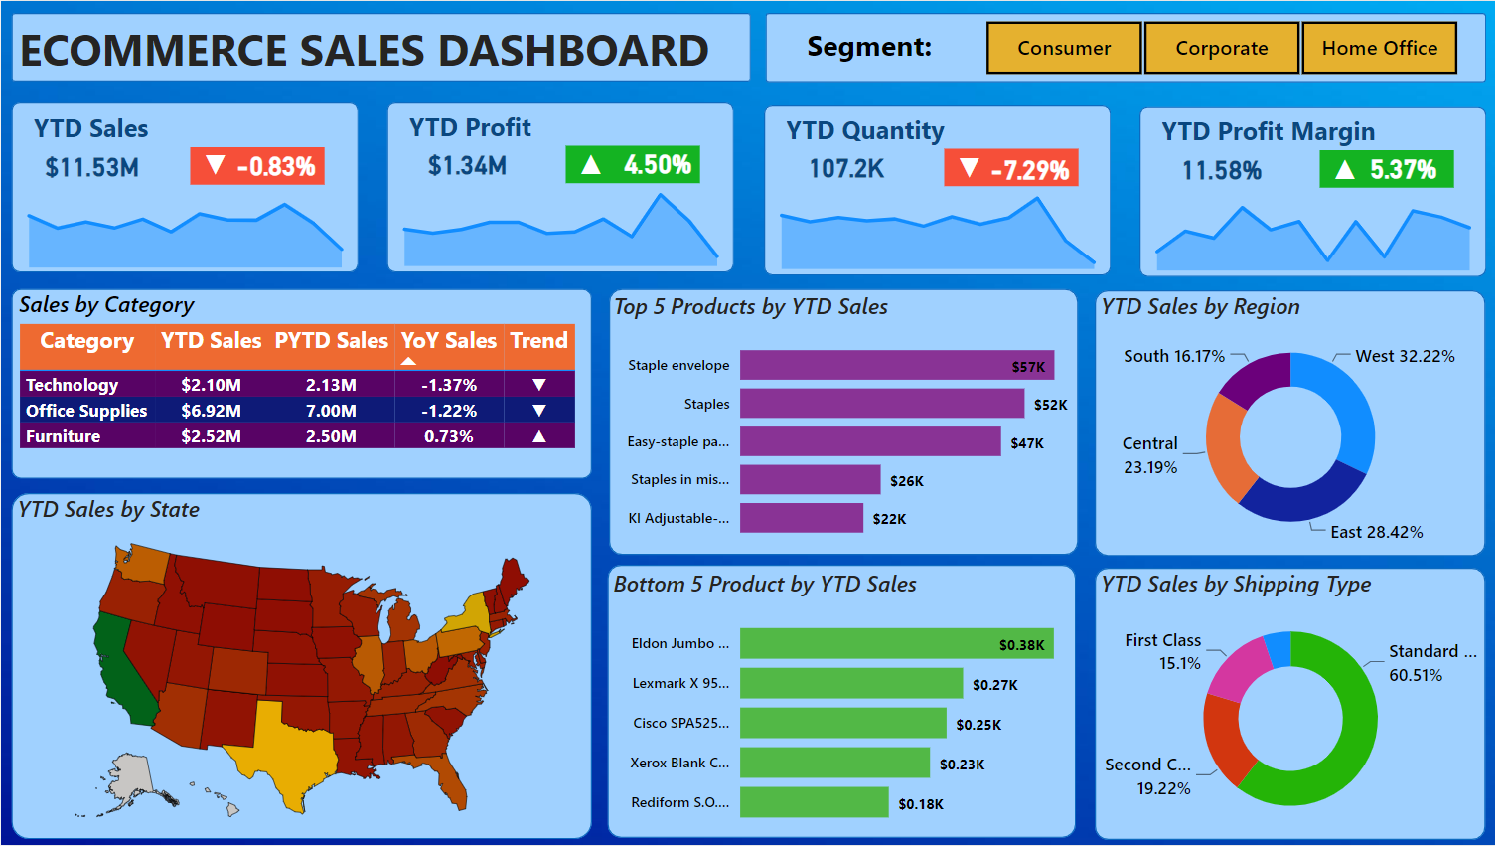

The dashboard page shown, as its layout file describes it:
{"tool":"powerbi","page":{"name":"Page 1","canvas":[1280,720],"ordinal":0},"visuals":[{"type":"shape","box":[8.6,10,631.4,58.6],"z":0},{"type":"textbox","box":[9.9,9.9,629.6,59.2],"z":1000},{"type":"shape","box":[9.2,87.1,296.3,145.1],"z":2000},{"type":"card","fields":{"Values":["ecommerce_data.YTD Sales"]},"box":[18.3,120.7,119.1,39.7],"z":3000},{"type":"shape","box":[162.2,124.4,114.4,31.7],"z":4000},{"type":"areaChart","fields":{"Category":["Calender.Month"],"Y":["Sum(ecommerce_data.sales_per_order)"]},"box":[9.2,149.7,296.3,82.5],"z":5000},{"type":"card","fields":{"Values":["ecommerce_data.YoY Sales"]},"box":[191.8,122.7,84.5,35.5],"z":6000},{"type":"card","fields":{"Values":["ecommerce_data.Salees Icon"]},"box":[162.2,123.9,42.8,32.2],"z":7000},{"type":"textbox","box":[22.8,87.2,134.4,41.1],"z":8000},{"type":"shape","box":[329.6,86.6,296.3,145.1],"z":9000},{"type":"shape","box":[482.7,124,114.4,31.7],"z":10000},{"type":"card","fields":{"Values":["ecommerce_data.YTD Profit"]},"box":[338.8,120.2,119.1,39.7],"z":11000},{"type":"areaChart","fields":{"Category":["Calender.Month"],"Y":["Sum(ecommerce_data.profit_per_order)"]},"box":[329.6,149.2,296.3,82.5],"z":12000},{"type":"card","fields":{"Values":["ecommerce_data.YoY Profit"]},"box":[518.2,120.9,85.5,35.5],"z":13000},{"type":"card","fields":{"Values":["ecommerce_data.Profit Icon"]},"box":[482.7,123.4,42.8,32.2],"z":14000},{"type":"textbox","box":[343.3,86.7,134.4,41.1],"z":15000},{"type":"shape","box":[652,89,296.3,145.1],"z":16000},{"type":"shape","box":[805.1,126.3,114.4,31.7],"z":17000},{"type":"card","fields":{"Values":["ecommerce_data.YTD Quantity"]},"box":[661.2,122.6,119.1,39.7],"z":18000},{"type":"areaChart","fields":{"Category":["Calender.Month"],"Y":["Sum(ecommerce_data.order_quantity)"]},"box":[652,151.6,296.3,82.5],"z":19000},{"type":"card","fields":{"Values":["ecommerce_data.YoY Quantity"]},"box":[835.6,125.6,84.4,35.6],"z":20000},{"type":"card","fields":{"Values":["ecommerce_data.Quantity Icon"]},"box":[805.1,125.8,42.8,32.2],"z":21000},{"type":"textbox","box":[665.7,88.6,161.4,41.4],"z":22000},{"type":"shape","box":[972.5,90.4,296.3,145.1],"z":23000},{"type":"shape","box":[1125.6,127.8,114.4,31.7],"z":24000},{"type":"card","fields":{"Values":["ecommerce_data.YTD Profit Margin"]},"box":[981.7,124,119.1,39.7],"z":25000},{"type":"areaChart","fields":{"Category":["Calender.Month"],"Y":["ecommerce_data.Profit Margin"]},"box":[972.5,153,296.3,82.5],"z":26000},{"type":"card","fields":{"Values":["ecommerce_data.YoY Profit Margin"]},"box":[1154.4,124.4,85.6,35.6],"z":27000},{"type":"card","fields":{"Values":["ecommerce_data.Profit Margin Icon"]},"box":[1125.6,127.2,42.8,32.2],"z":28000},{"type":"textbox","box":[986.7,90,224.4,41.1],"z":29000},{"type":"shape","box":[8.4,245.3,495.8,162.1],"z":30000},{"type":"tableEx","title":"Sales by Category","fields":{"Values":["ecommerce_data.category_name","ecommerce_data.YTD Sales","ecommerce_data.PYTD Sales","ecommerce_data.YoY Sales","ecommerce_data.Sales Icon"]},"box":[10.8,246.2,493.8,161.5],"z":31000},{"type":"shape","box":[8.4,419.5,495.8,295.3],"z":32000},{"type":"shape","box":[518.6,245,400.7,227.1],"z":33000},{"type":"shape","box":[518.4,481.6,400,233.2],"z":34000},{"type":"shape","box":[933.8,246.5,333.8,226.8],"z":35000},{"type":"shape","box":[933.8,483.1,333.8,232.4],"z":36000},{"type":"barChart","title":"Top 5 Products by YTD Sales","fields":{"Category":["ecommerce_data.product_name"],"Y":["ecommerce_data.YTD Sales"]},"box":[518.3,246.5,400,225.4],"z":37000},{"type":"barChart","title":"Bottom 5 Product by YTD Sales","fields":{"Category":["ecommerce_data.product_name"],"Y":["ecommerce_data.YTD Sales"]},"box":[518.3,483.1,400,232.4],"z":38000},{"type":"donutChart","title":"YTD Sales by Region","fields":{"Y":["ecommerce_data.YTD Sales"],"Category":["ecommerce_data.customer_region"]},"box":[933.8,246.5,333.8,225.4],"z":39000},{"type":"donutChart","title":"YTD Sales by Shipping Type","fields":{"Y":["ecommerce_data.YTD Sales"],"Category":["ecommerce_data.shipping_type"]},"box":[933.8,483.1,333.8,232.4],"z":40000},{"type":"shape","box":[652.1,9.9,615.5,59.2],"z":41000},{"type":"slicer","title":"Segment","fields":{"Values":["ecommerce_data.customer_segment"]},"box":[815.5,9.9,452.1,59.2],"z":42000},{"type":"textbox","box":[683.1,15.5,164.8,46.5],"z":43000},{"type":"shapeMap","title":"YTD Sales by State","fields":{"Category":["us_state_long_lat_codes.state"],"Value":["ecommerce_data.YTD Sales"]},"box":[8.9,419.9,496.2,293.9],"z":44000}]}

Visuals, with their boxes in screenshot pixels (x1, y1, x2, y2), scaled from the page's 1280x720 canvas onto the 1495x846 screenshot:
shape: 10,12,748,81
textbox: 12,12,747,81
shape: 11,102,357,273
card - ecommerce_data.YTD Sales: 21,142,160,188
shape: 189,146,323,183
areaChart - Calender.Month x Sum(ecommerce_data.sales_per_order): 11,176,357,273
card - ecommerce_data.YoY Sales: 224,144,323,186
card - ecommerce_data.Salees Icon: 189,146,239,183
textbox: 27,102,184,151
shape: 385,102,731,272
shape: 564,146,697,183
card - ecommerce_data.YTD Profit: 396,141,535,188
areaChart - Calender.Month x Sum(ecommerce_data.profit_per_order): 385,175,731,272
card - ecommerce_data.YoY Profit: 605,142,705,184
card - ecommerce_data.Profit Icon: 564,145,614,183
textbox: 401,102,558,150
shape: 762,105,1108,275
shape: 940,148,1074,186
card - ecommerce_data.YTD Quantity: 772,144,911,191
areaChart - Calender.Month x Sum(ecommerce_data.order_quantity): 762,178,1108,275
card - ecommerce_data.YoY Quantity: 976,148,1075,189
card - ecommerce_data.Quantity Icon: 940,148,990,186
textbox: 778,104,966,153
shape: 1136,106,1482,277
shape: 1315,150,1448,187
card - ecommerce_data.YTD Profit Margin: 1147,146,1286,192
areaChart - Calender.Month x ecommerce_data.Profit Margin: 1136,180,1482,277
card - ecommerce_data.YoY Profit Margin: 1348,146,1448,188
card - ecommerce_data.Profit Margin Icon: 1315,149,1365,187
textbox: 1152,106,1415,154
shape: 10,288,589,479
"Sales by Category" tableEx: 13,289,589,479
shape: 10,493,589,840
shape: 606,288,1074,555
shape: 605,566,1073,840
shape: 1091,290,1481,556
shape: 1091,568,1481,841
"Top 5 Products by YTD Sales" barChart: 605,290,1073,554
"Bottom 5 Product by YTD Sales" barChart: 605,568,1073,841
"YTD Sales by Region" donutChart: 1091,290,1481,554
"YTD Sales by Shipping Type" donutChart: 1091,568,1481,841
shape: 762,12,1481,81
"Segment" slicer: 952,12,1481,81
textbox: 798,18,990,73
"YTD Sales by State" shapeMap: 10,493,590,839
